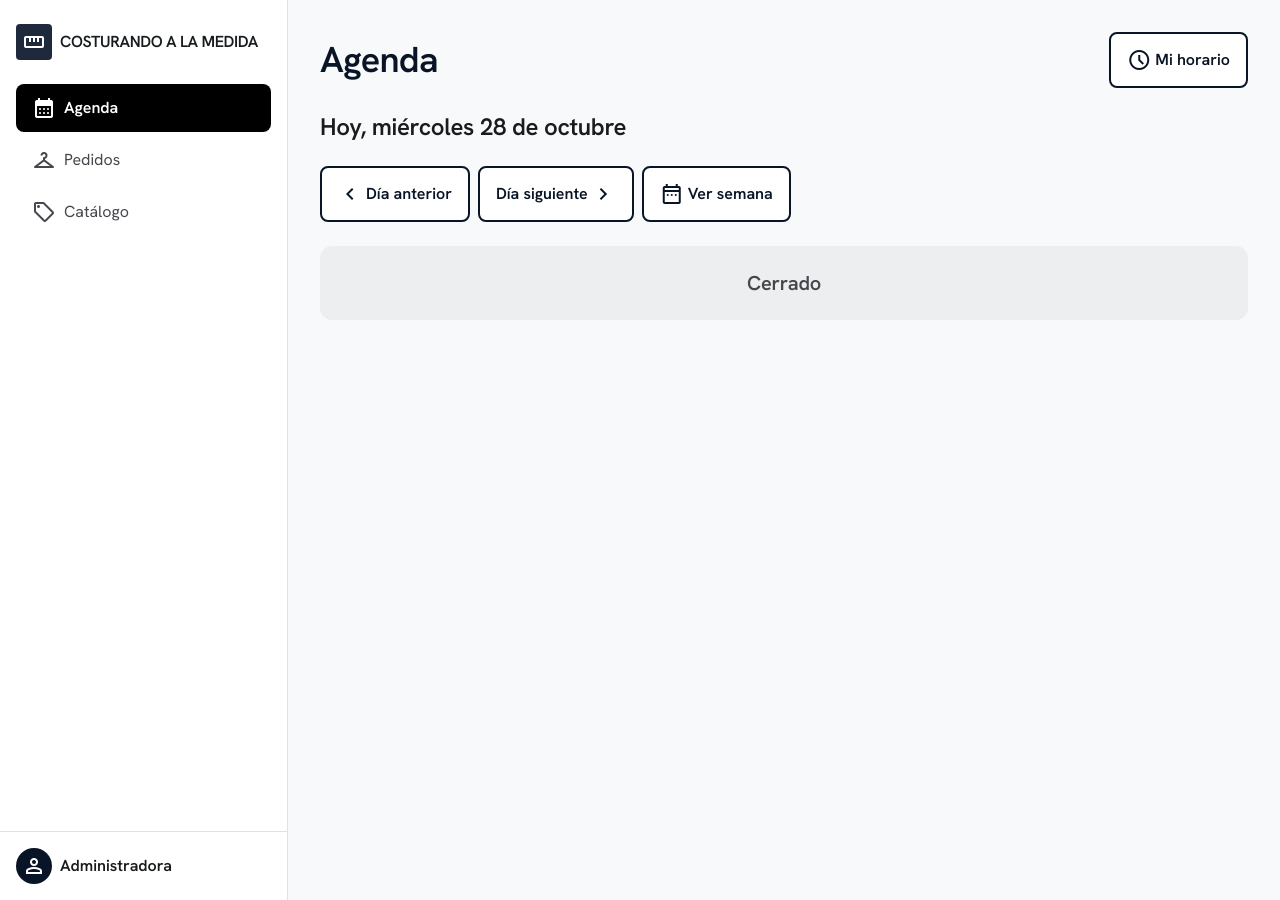
Admin shell navigation › shows the clicked page and moves the current mark to its link
The width and height of the screenshot is (1280, 900).
Click the link "Pedidos".
click(76, 160)  # box [32,146,120,174]
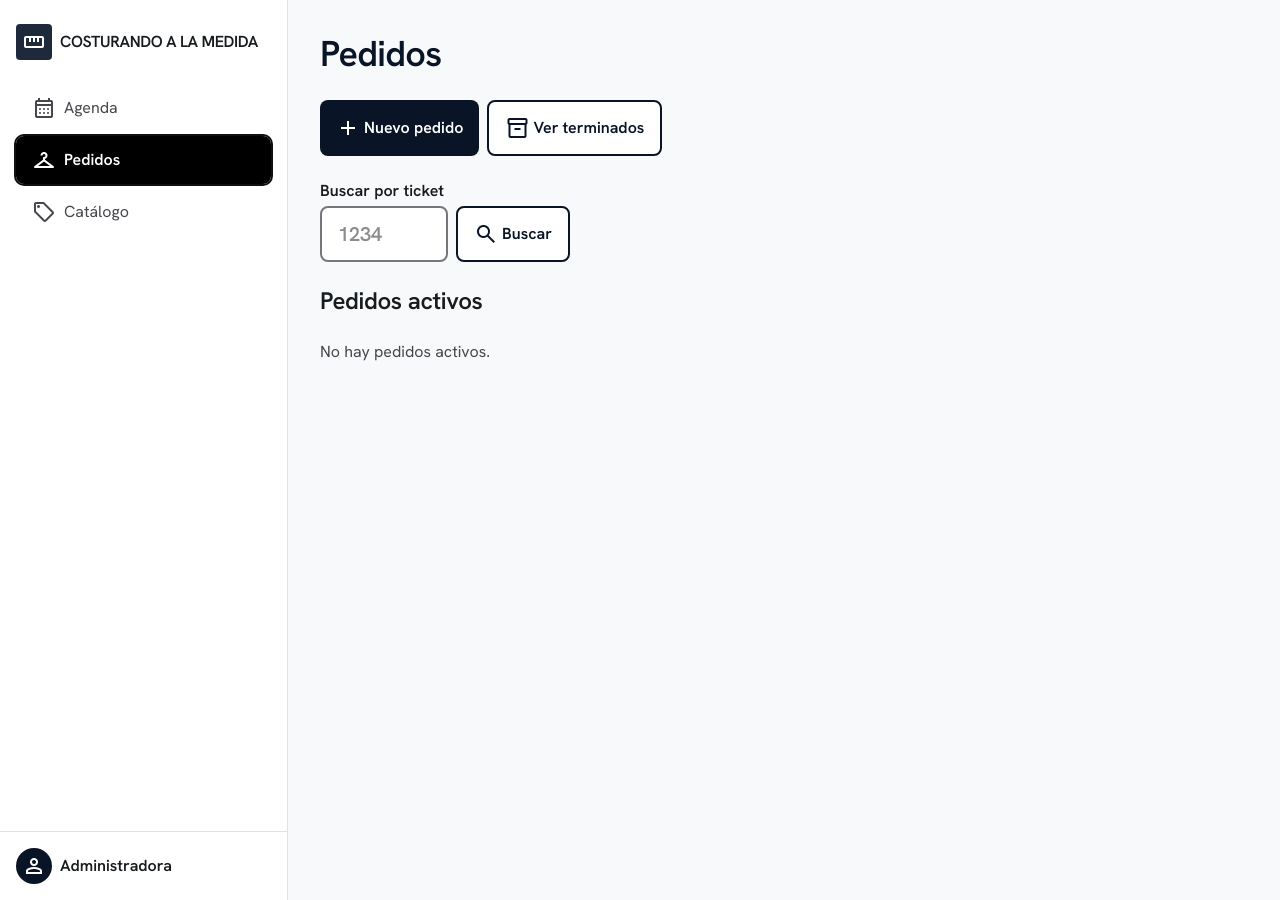
Expected: the heading "Pedidos" is shown, [320,32,442,76]
